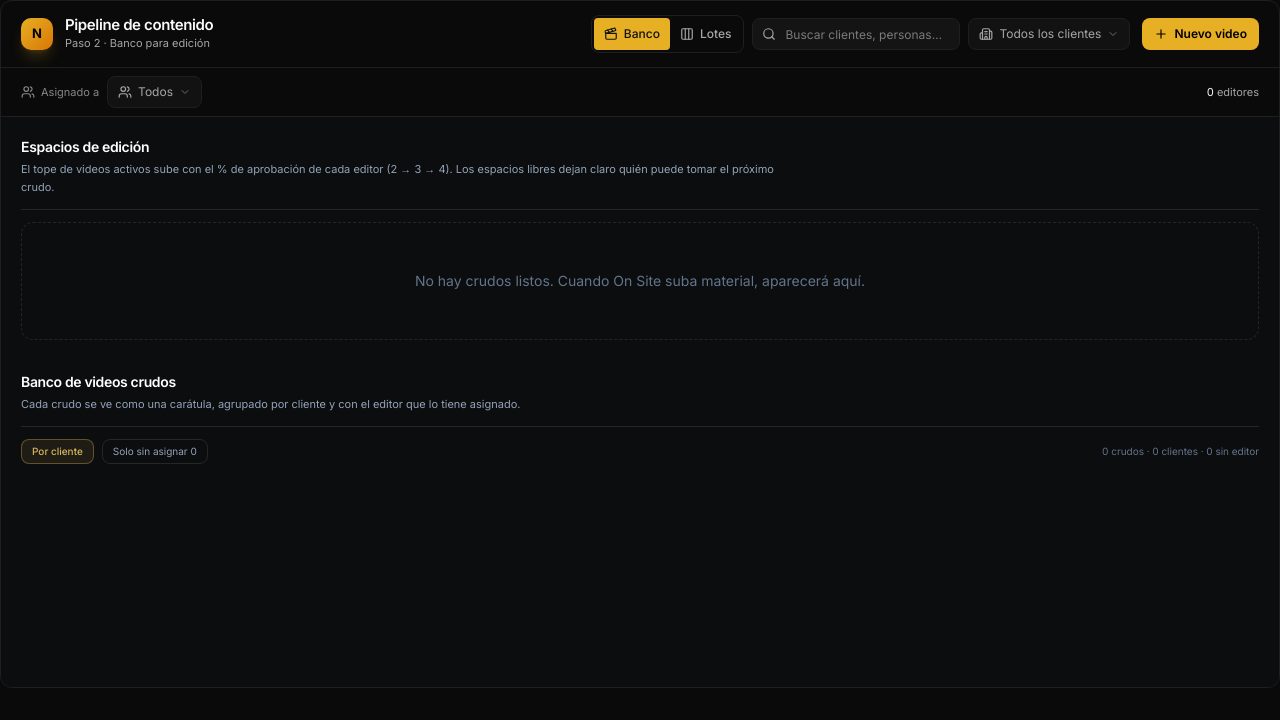
it: ContentPipelineBoard — batch model › shows one batch card per client (not per video)
Click the button "Lotes" at (706, 34), box [670,18,742,50]
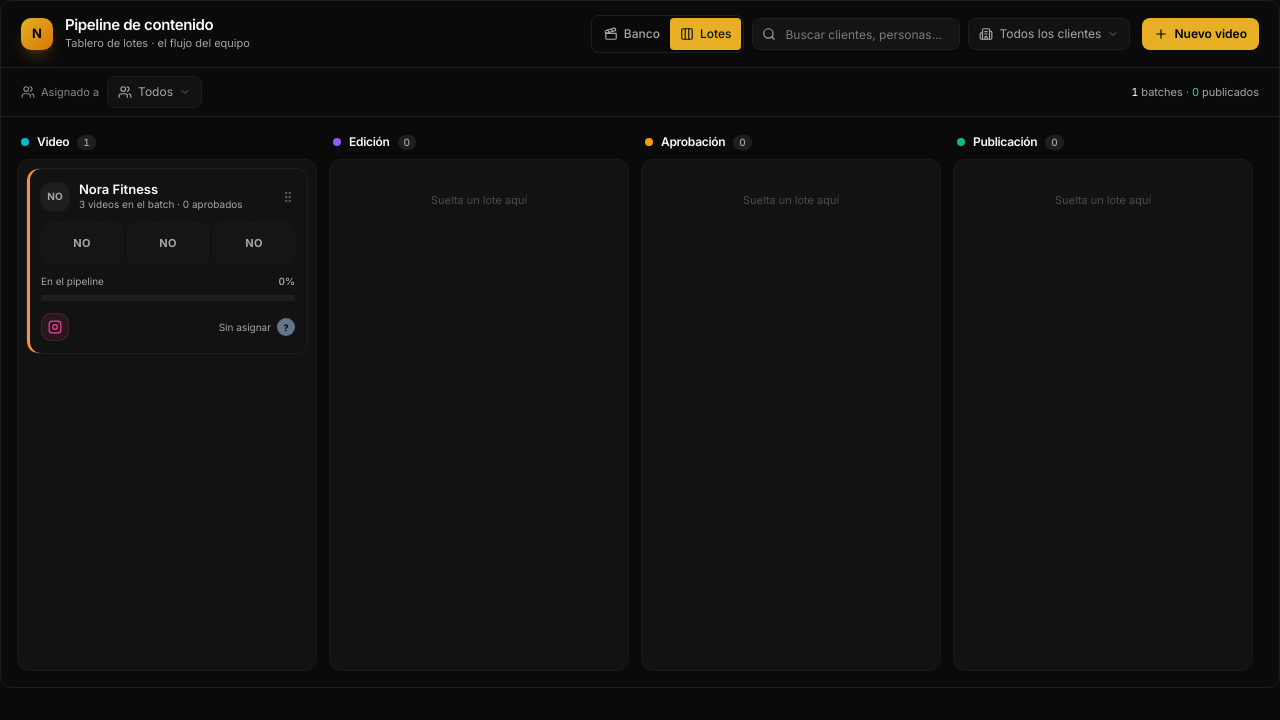
expect the element that starts with "Nora Fitness" is shown: met, box [79,181,158,197]
expect the element that starts with "Nora Fitness" shows "3 videos en el batch": met, box [26,168,308,354]
